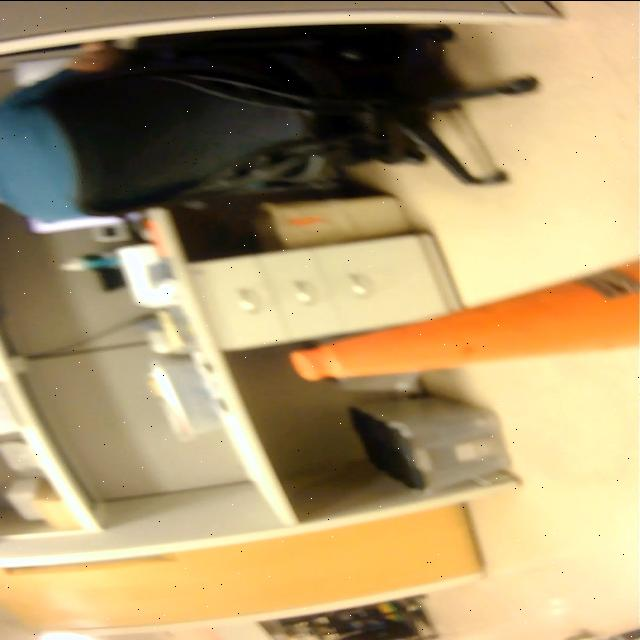traffic cone: (276, 248, 640, 388)
